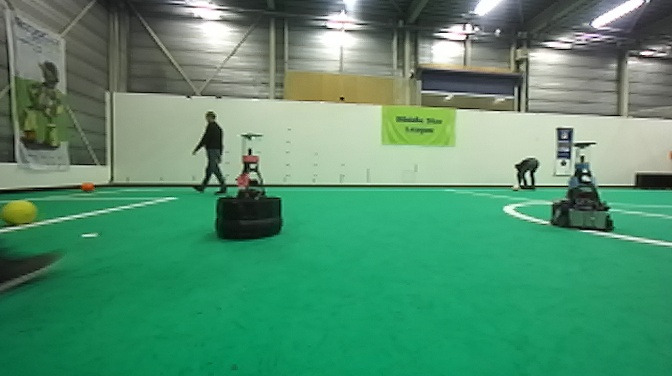ball: (1, 198, 41, 231), (78, 180, 95, 195), (510, 181, 522, 194)
human: (188, 108, 231, 194), (511, 154, 541, 191)
robot: (214, 132, 287, 243), (549, 140, 616, 236)
